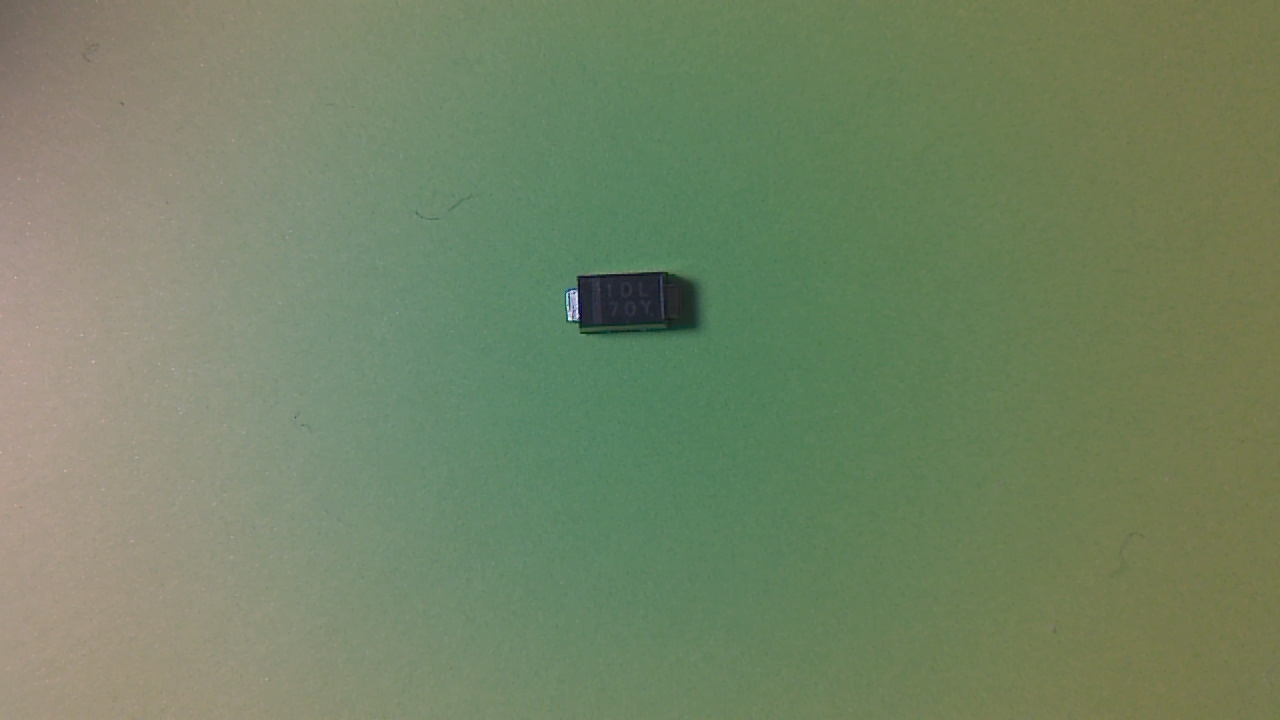Diode: (569, 270, 688, 345)
